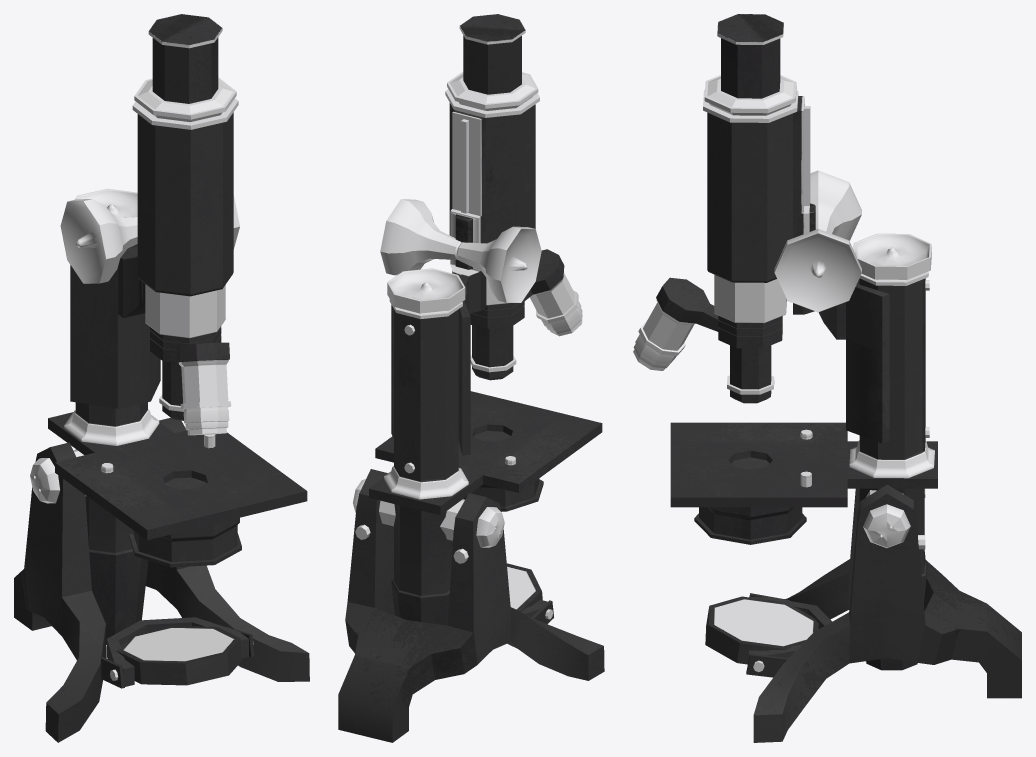
Rendered from microscope.glb.
3 views of the same model, side by side, from view 1: azimuth 30°, elevation 25°; view 2: azimuth 150°, elevation 25°; view 3: azimuth 270°, elevation 25° (orthographic). The views are drawn at different scales.
Visible parts, largest first — view 1: microscope_grp viewing_grp pCylinder1, stand_grp microscope_grp standBase_geo, microscope_grp platform_grp polySurface1, stand_grp microscope_grp standSpine_geo, stand_grp microscope_grp mirror_geo, microscope_grp viewing_grp pCylinder4, microscope_grp pCylinder5 viewing_grp, microscope_grp platform_grp light, stand_grp microscope_grp mirrorHolder_geo, standConnect_geo stand_grp microscope_grp; view 2: stand_grp microscope_grp standBase_geo, microscope_grp viewing_grp pCylinder1, stand_grp microscope_grp standSpine_geo, microscope_grp platform_grp polySurface1, microscope_grp viewing_grp pCylinder4, microscope_grp pCylinder5 viewing_grp, standConnect_geo stand_grp microscope_grp, microscope_grp platform_grp light, stand_grp microscope_grp mirror_geo; view 3: microscope_grp viewing_grp pCylinder1, stand_grp microscope_grp standBase_geo, microscope_grp platform_grp polySurface1, stand_grp microscope_grp standSpine_geo, microscope_grp viewing_grp pCylinder4, stand_grp microscope_grp mirror_geo, microscope_grp pCylinder5 viewing_grp, microscope_grp platform_grp light, standConnect_geo stand_grp microscope_grp, stand_grp microscope_grp mirrorHolder_geo, stand_grp microscope_grp holderHolder2_geo.
Part boxes in pixels (x1,y1,x2,y2): microscope_grp viewing_grp pCylinder1: (70, 14, 238, 420); stand_grp microscope_grp standBase_geo: (14, 417, 309, 742); microscope_grp platform_grp polySurface1: (48, 412, 307, 540); stand_grp microscope_grp standSpine_geo: (64, 188, 159, 644); stand_grp microscope_grp mirror_geo: (117, 626, 242, 685); microscope_grp viewing_grp pCylinder4: (60, 195, 239, 283); microscope_grp pCylinder5 viewing_grp: (176, 342, 231, 435); microscope_grp platform_grp light: (129, 477, 241, 567); stand_grp microscope_grp mirrorHolder_geo: (107, 617, 248, 686); standConnect_geo stand_grp microscope_grp: (30, 427, 185, 503); stand_grp microscope_grp standBase_geo: (338, 469, 604, 742); microscope_grp viewing_grp pCylinder1: (391, 14, 539, 455); stand_grp microscope_grp standSpine_geo: (384, 268, 468, 625); microscope_grp platform_grp polySurface1: (369, 391, 602, 515); microscope_grp viewing_grp pCylinder4: (380, 199, 541, 302); microscope_grp pCylinder5 viewing_grp: (524, 249, 582, 336); standConnect_geo stand_grp microscope_grp: (353, 479, 504, 547); microscope_grp platform_grp light: (463, 431, 543, 511); stand_grp microscope_grp mirror_geo: (506, 563, 542, 611); microscope_grp viewing_grp pCylinder1: (703, 14, 889, 443); stand_grp microscope_grp standBase_geo: (753, 484, 1021, 742); microscope_grp platform_grp polySurface1: (670, 422, 937, 507); stand_grp microscope_grp standSpine_geo: (849, 233, 934, 670); microscope_grp viewing_grp pCylinder4: (774, 170, 861, 312); stand_grp microscope_grp mirror_geo: (705, 596, 818, 664); microscope_grp pCylinder5 viewing_grp: (633, 277, 718, 370); microscope_grp platform_grp light: (694, 457, 806, 544); standConnect_geo stand_grp microscope_grp: (863, 490, 910, 547); stand_grp microscope_grp mirrorHolder_geo: (749, 597, 832, 657); stand_grp microscope_grp holderHolder2_geo: (746, 653, 788, 677).
Bounding box in the file's own units: 0.00777 × 0.0202 × 0.0108.
1 material, 1 textured.
